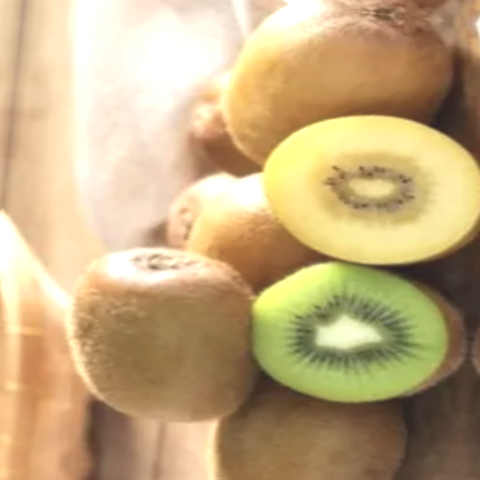kiwi: (178, 0, 480, 200), (49, 224, 264, 443)
